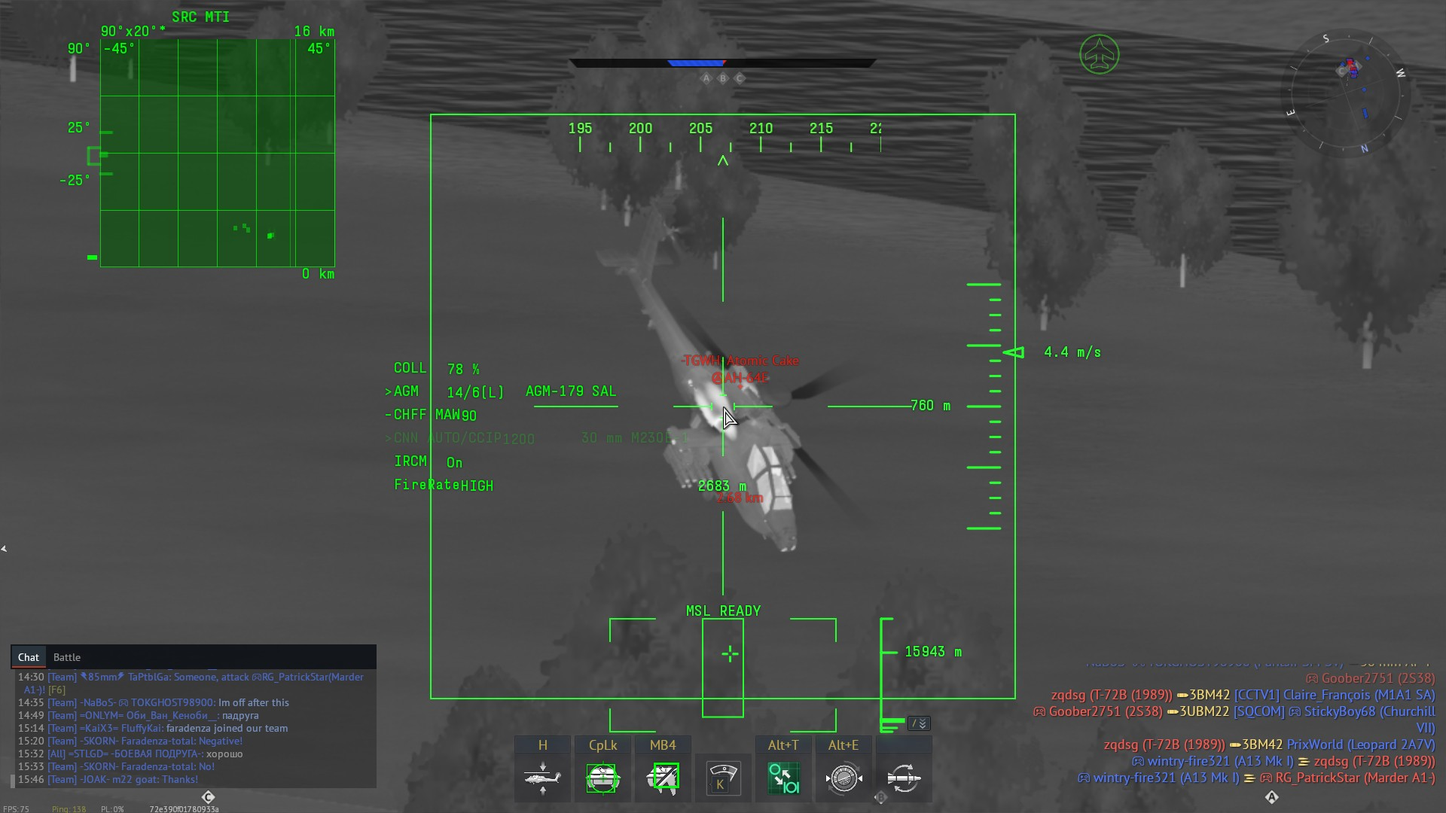ah64: (594, 205, 906, 555)
